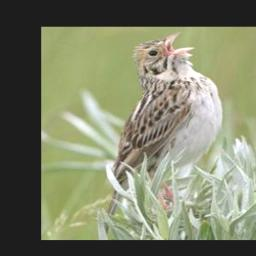Sparrow: (103, 32, 224, 233)
